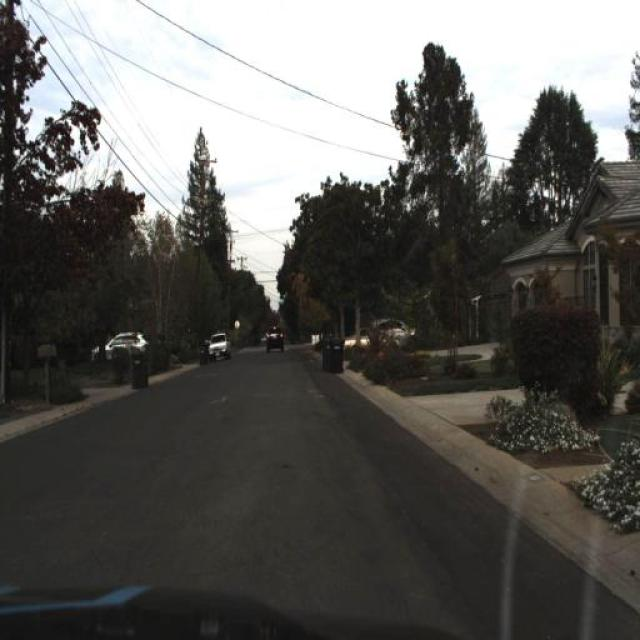car: (94, 328, 151, 372), (96, 323, 153, 362), (338, 323, 383, 362), (368, 314, 420, 341), (203, 327, 234, 359), (207, 331, 228, 367), (262, 322, 286, 353)
